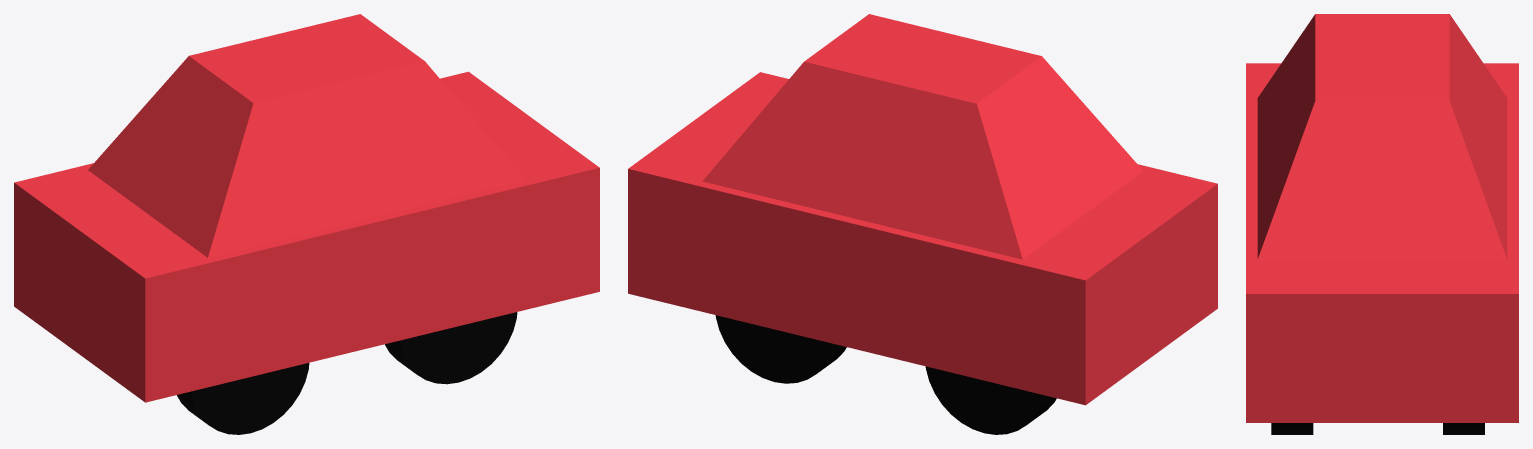
Rendered from car.fbx.
The picture shows the model from 3 angles, left to right: view 1: azimuth 30°, elevation 25°; view 2: azimuth 150°, elevation 25°; view 3: azimuth 270°, elevation 25°; orthographic projection. The views are drawn at different scales.
Visible parts, largest first — view 1: 큐브.001, 큐브, 실린더, 실린더.001; view 2: 큐브.001, 큐브, 실린더.003, 실린더.002; view 3: 큐브, 큐브.001, 실린더.001, 실린더.002.
Boxes of the visible parts, bbox=[...] form: 큐브.001: bbox=[14, 71, 599, 402]; 큐브: bbox=[88, 14, 525, 257]; 실린더: bbox=[177, 363, 309, 434]; 실린더.001: bbox=[385, 312, 517, 384]; 큐브.001: bbox=[628, 72, 1217, 405]; 큐브: bbox=[702, 14, 1143, 259]; 실린더.003: bbox=[925, 366, 1056, 434]; 실린더.002: bbox=[715, 315, 846, 383]; 큐브: bbox=[1257, 14, 1507, 259]; 큐브.001: bbox=[1246, 63, 1518, 422]; 실린더.001: bbox=[1271, 423, 1313, 434]; 실린더.002: bbox=[1443, 423, 1484, 434].
Bounding box in the file's own units: 767 × 498 × 384.
